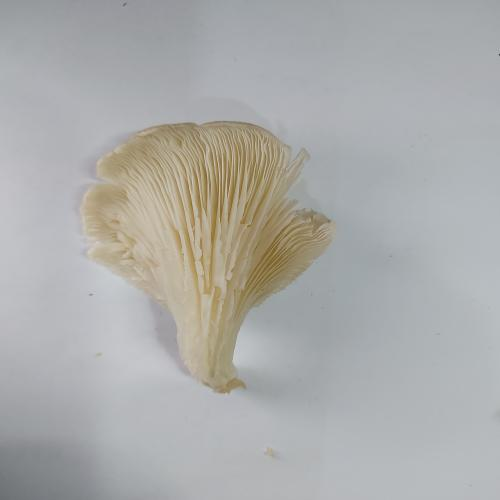Oyster Mushroom: (79, 119, 337, 394)
